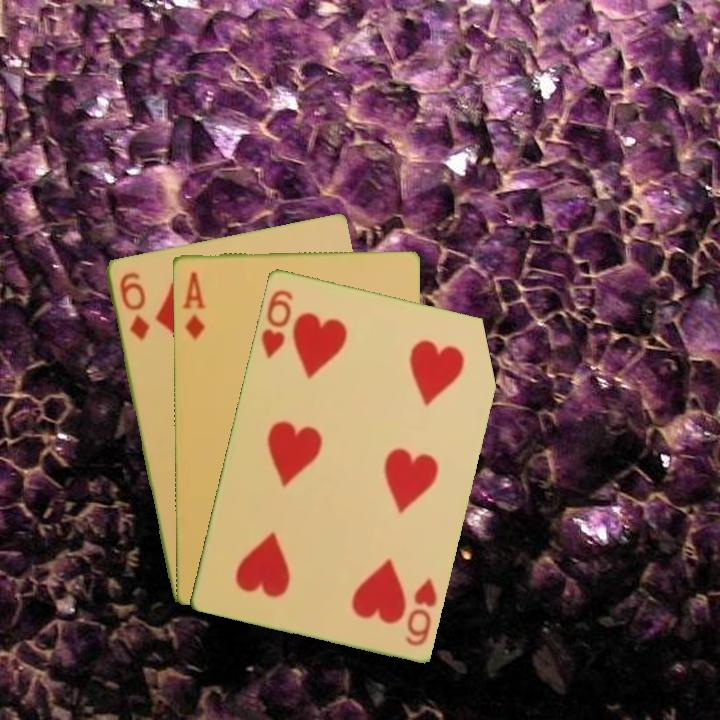6d: (115, 268, 152, 343)
6h: (257, 285, 296, 362), (401, 573, 440, 649)
Ad: (179, 268, 208, 342)
